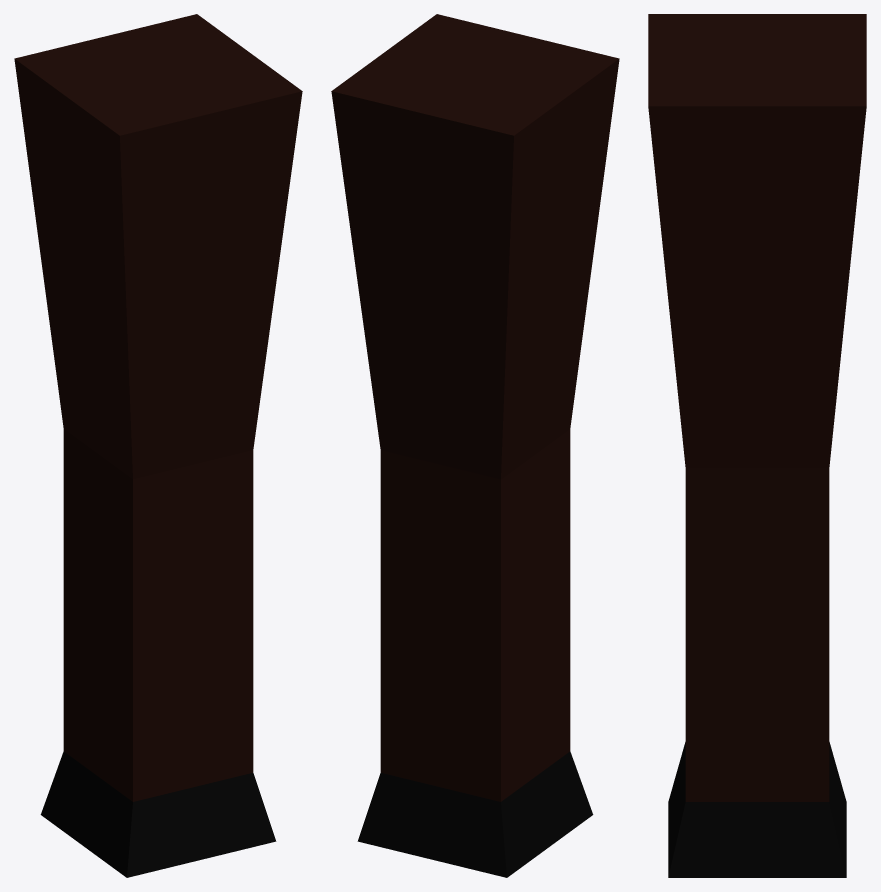
The model's file is horse_leg.obj.
The picture shows the model from 3 angles, left to right: view 1: azimuth 30°, elevation 25°; view 2: azimuth 150°, elevation 25°; view 3: azimuth 270°, elevation 25°; orthographic projection. The views are drawn at different scales.
Parts seen in each view (by area): view 1: horse_leg; view 2: horse_leg; view 3: horse_leg.
Boxes of the visible parts, left/top/right/bottom form: horse_leg: left=14, top=14, right=302, bottom=877; horse_leg: left=331, top=14, right=619, bottom=877; horse_leg: left=648, top=14, right=866, bottom=877.
Bounding box in the file's own units: 0.0724 × 0.2854 × 0.0724.
